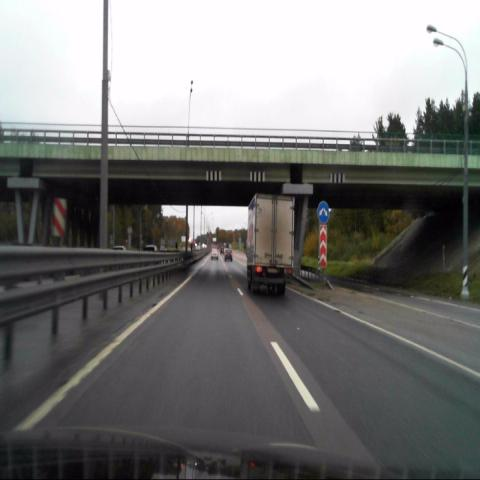4_2_3: (317, 201, 329, 223)
